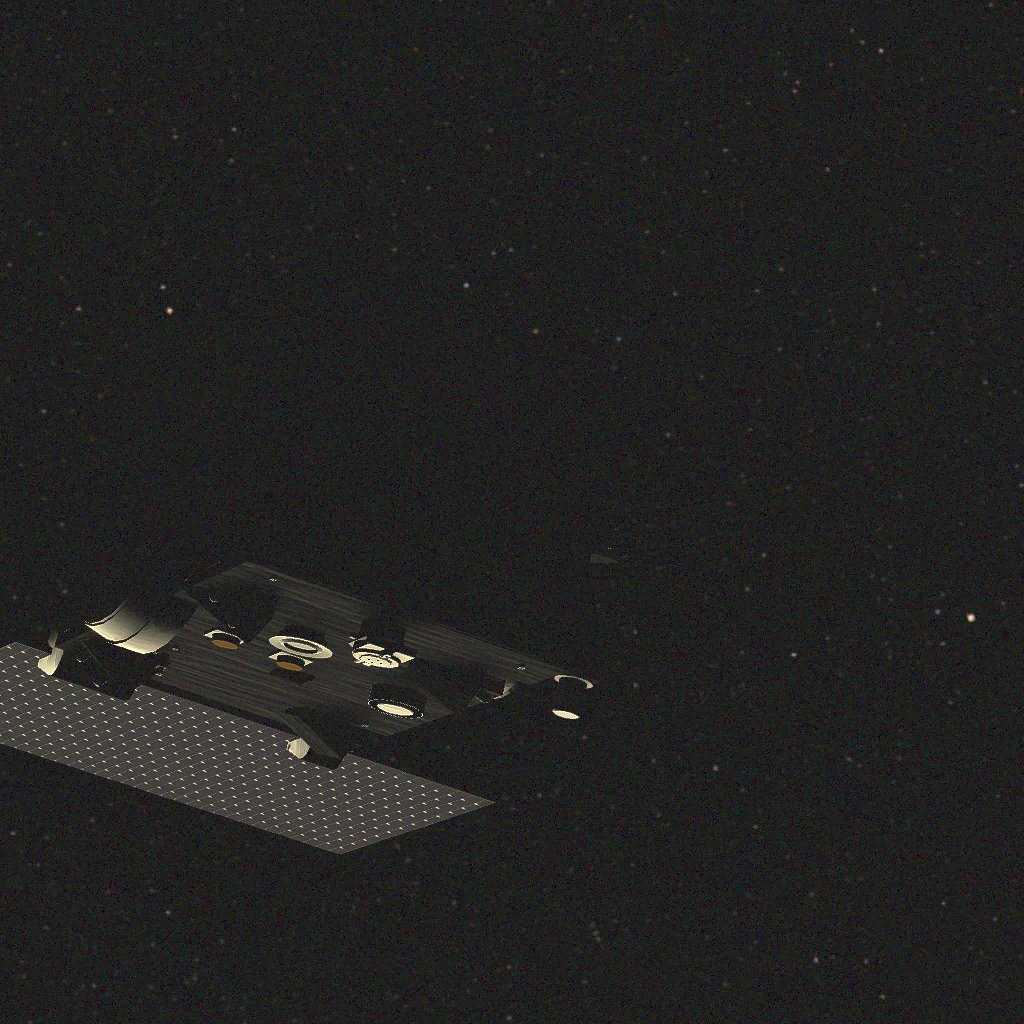proba_3_csc: (0, 241, 659, 854)
